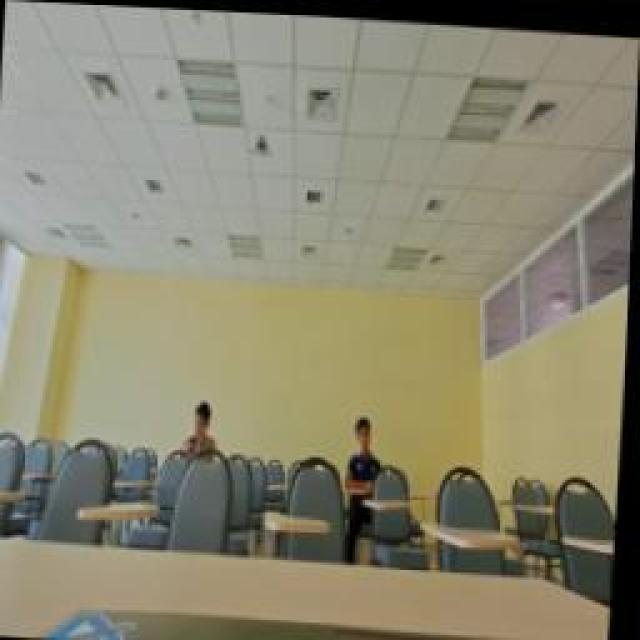phone: (185, 395, 223, 463)
study: (348, 410, 388, 482)
